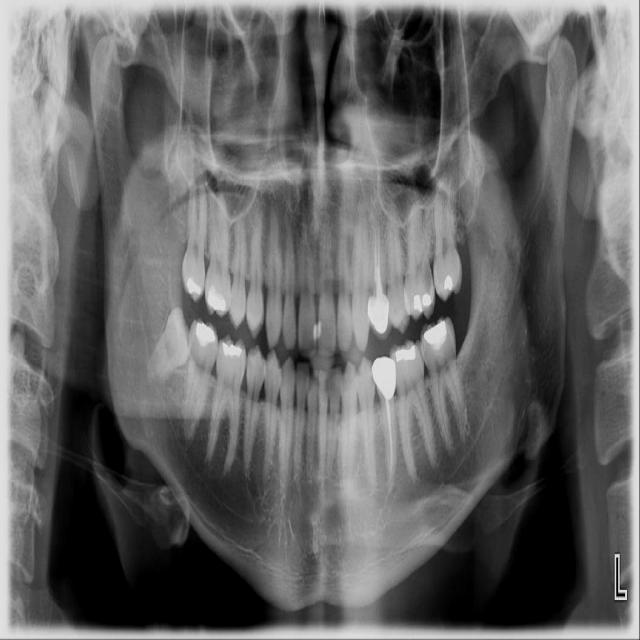Crown: (367, 291, 392, 341), (372, 356, 397, 401)
Filling: (298, 299, 318, 358), (317, 299, 337, 358), (422, 319, 448, 351), (409, 288, 434, 315), (392, 342, 421, 365), (193, 320, 216, 347), (207, 287, 230, 313), (219, 341, 242, 359), (441, 273, 459, 296), (184, 278, 203, 299)
Root Canal Treatment: (384, 398, 392, 470), (377, 229, 380, 290), (374, 227, 377, 284)
impacted tooth: (145, 306, 191, 389)
